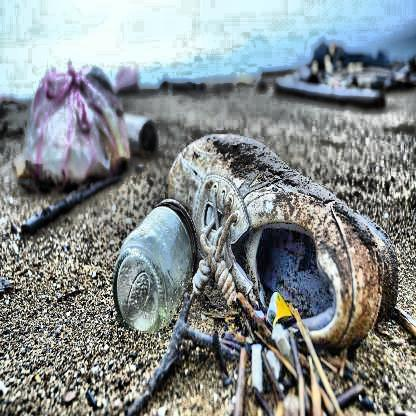Glass wastes: (109, 189, 197, 339)
Plastic wastes: (167, 128, 403, 342), (14, 63, 131, 194)
